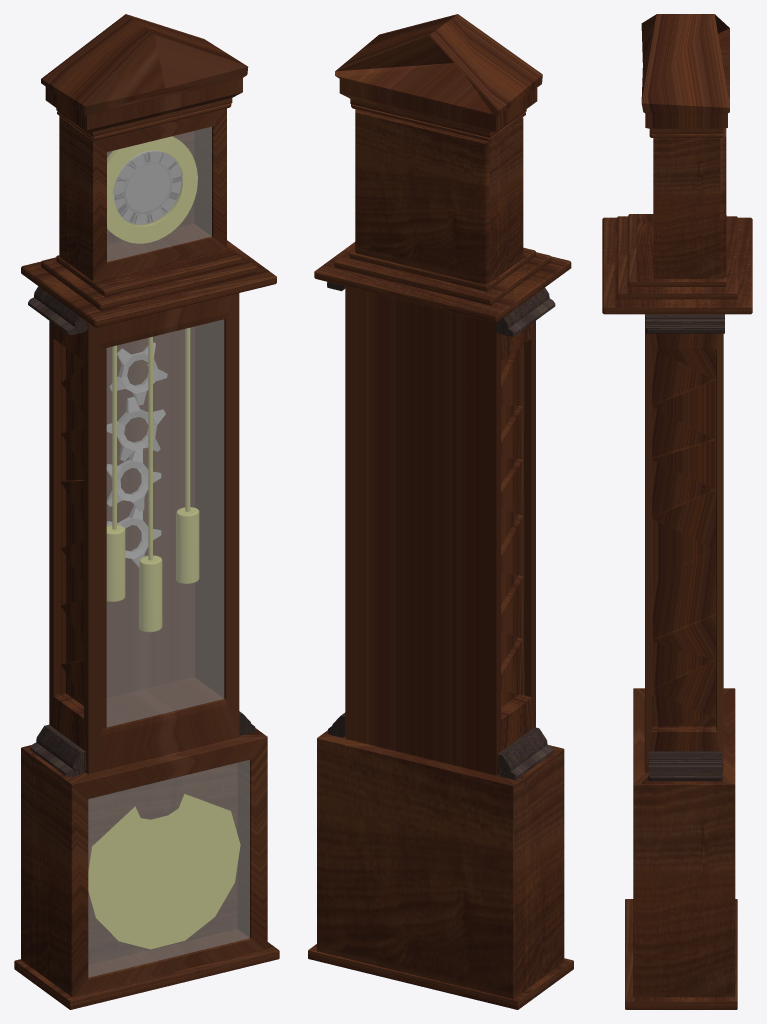
Rendered from grandfather clock.fbx.
3 views of the same model, side by side, from view 1: azimuth 30°, elevation 25°; view 2: azimuth 150°, elevation 25°; view 3: azimuth 270°, elevation 25° (orthographic).
Parts seen in each view (by area): view 1: pCube1, pPlane3, pPlane1, pCylinder16, polySurface3, polySurface2, polySurface4, polySurface8, polySurface5, pDisc1, pCylinder17, pCube2 (+15 smaller); view 2: pCube1, polySurface2, polySurface3, polySurface8, polySurface7, pCube2, pCube10, polySurface6, pCube13, polySurface1; view 3: pCube1, polySurface2, polySurface3, polySurface8, polySurface7, pCube2, polySurface6, pCube11, pCube12.
Boxes of the visible parts, left/top/right/bottom form: pCube1: left=21, top=293, right=267, bottom=996; pPlane3: left=106, top=319, right=224, bottom=727; pPlane1: left=88, top=759, right=249, bottom=977; pCylinder16: left=88, top=794, right=240, bottom=948; polySurface3: left=41, top=14, right=248, bottom=136; polySurface2: left=59, top=108, right=226, bottom=281; polySurface4: left=107, top=126, right=211, bottom=261; polySurface8: left=21, top=240, right=276, bottom=327; polySurface5: left=107, top=136, right=197, bottom=243; pDisc1: left=113, top=151, right=182, bottom=224; pCylinder17: left=114, top=152, right=180, bottom=223; pCube2: left=14, top=942, right=279, bottom=1009; pCube1: left=317, top=286, right=564, bottom=998; polySurface2: left=355, top=109, right=523, bottom=284; polySurface3: left=335, top=14, right=542, bottom=137; polySurface8: left=314, top=242, right=571, bottom=322; polySurface7: left=334, top=246, right=551, bottom=305; pCube2: left=308, top=944, right=573, bottom=1009; pCube10: left=497, top=727, right=553, bottom=780; polySurface6: left=349, top=247, right=535, bottom=291; pCube13: left=495, top=288, right=555, bottom=336; polySurface1: left=351, top=104, right=525, bottom=141; pCube1: left=633, top=314, right=735, bottom=997; polySurface2: left=653, top=128, right=726, bottom=278; polySurface3: left=641, top=14, right=729, bottom=133; polySurface8: left=602, top=217, right=752, bottom=314; polySurface7: left=617, top=216, right=737, bottom=299; pCube2: left=625, top=899, right=737, bottom=1009; polySurface6: left=628, top=214, right=726, bottom=286; pCube11: left=648, top=751, right=722, bottom=781; pCube12: left=646, top=314, right=724, bottom=333.
Bounding box in the file's own units: 1.01 × 4.32 × 0.6237.
